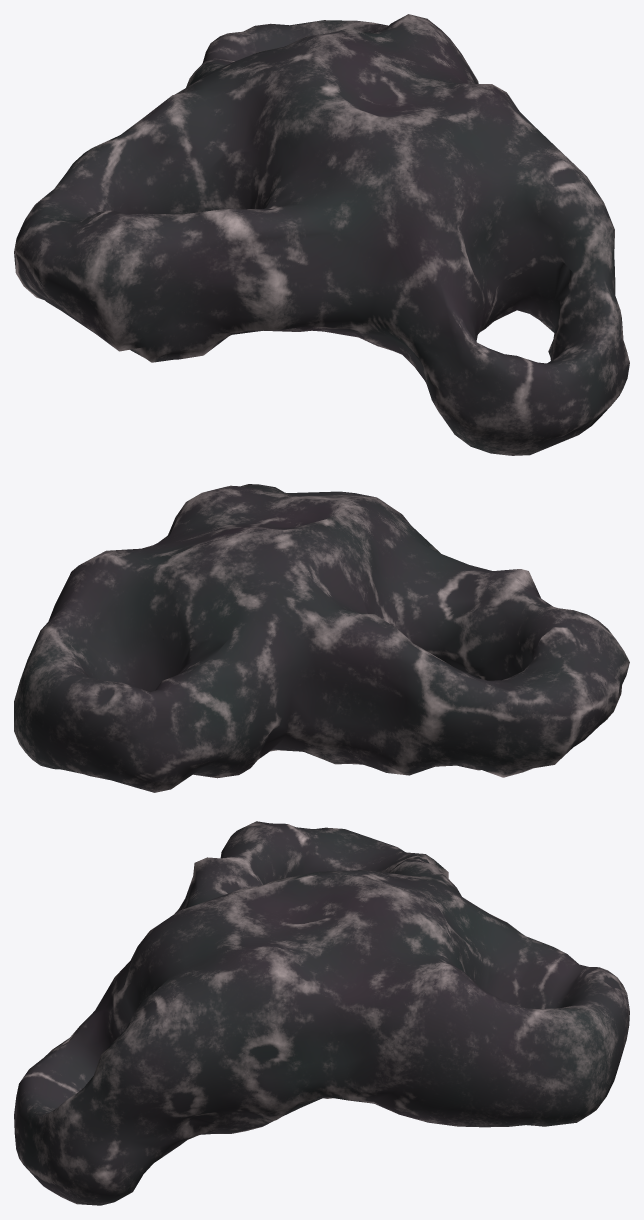
The picture shows the model from 3 angles, top to bottom: view 1: azimuth 30°, elevation 25°; view 2: azimuth 150°, elevation 25°; view 3: azimuth 270°, elevation 25°; orthographic projection. The views are drawn at different scales.
Parts seen in each view (by area): view 1: 4.001; view 2: 4.001; view 3: 4.001.
Part boxes in pixels (x1,y1,x2,y2): 4.001: (14,14,629,455); 4.001: (14,484,629,792); 4.001: (14,821,629,1205).
Size of the model in its own units: 10.27 by 5.86 by 11.63.
1 material, 1 textured.
